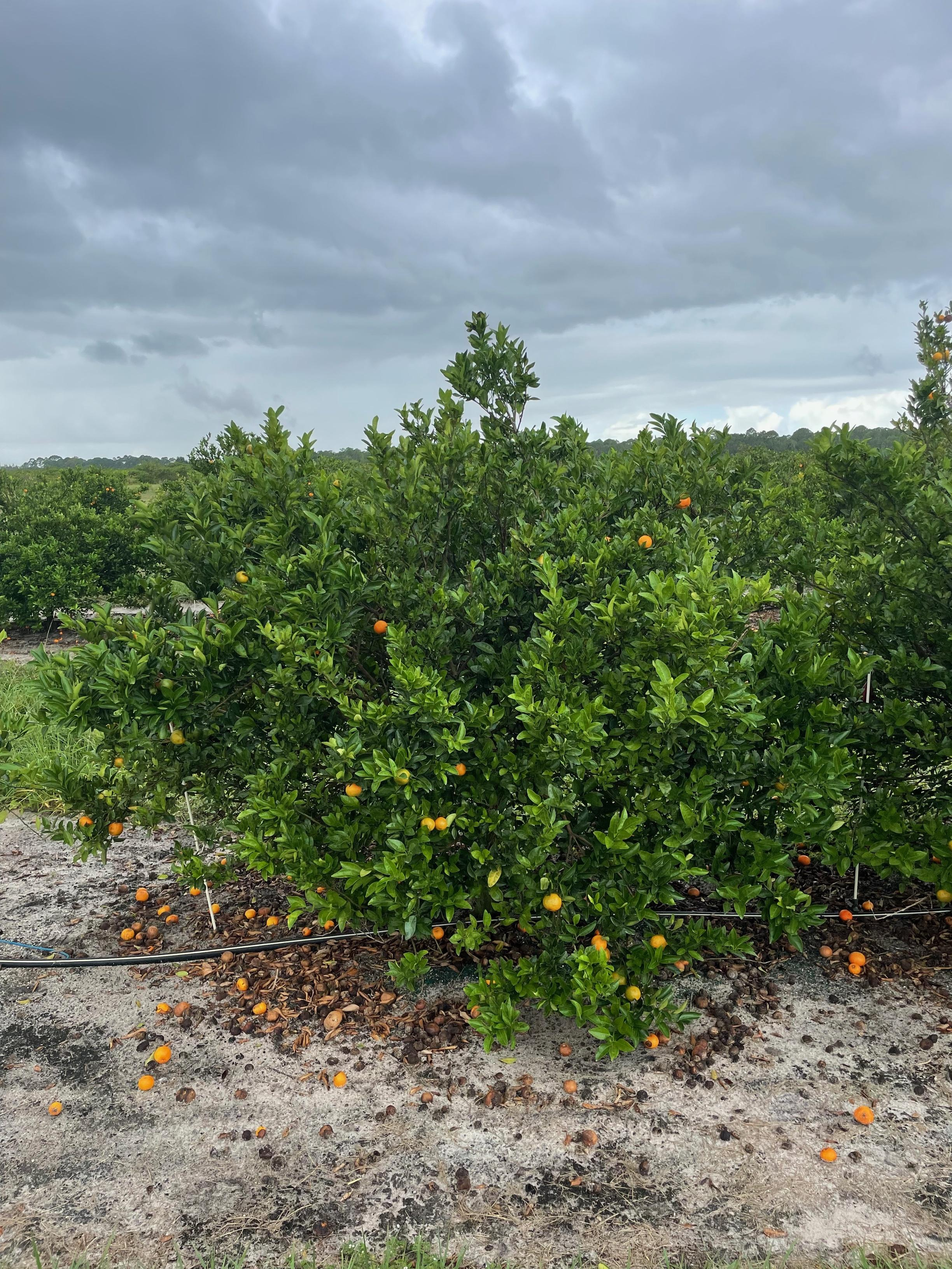fruit_on_ground: (541, 890, 564, 912), (591, 945, 612, 966), (589, 933, 610, 953), (673, 492, 694, 512), (392, 766, 413, 786), (370, 616, 390, 636), (648, 932, 669, 951), (168, 727, 188, 746), (623, 983, 642, 1003), (343, 780, 364, 798), (635, 532, 654, 551), (772, 775, 792, 793), (609, 970, 628, 988), (450, 760, 469, 778), (77, 813, 96, 831), (156, 676, 175, 693), (419, 814, 436, 833), (935, 886, 952, 904), (432, 815, 449, 832), (107, 820, 124, 837), (233, 569, 250, 585), (111, 753, 127, 769), (600, 531, 615, 547), (923, 389, 939, 404), (934, 312, 947, 325), (931, 350, 944, 363), (244, 443, 257, 455), (331, 478, 343, 489), (307, 491, 315, 498)
fruit_on_tree: (852, 1103, 876, 1126), (152, 1043, 173, 1064), (578, 1127, 599, 1147), (323, 1009, 345, 1028), (483, 1089, 503, 1108), (847, 949, 867, 968), (690, 1044, 709, 1062), (47, 1099, 65, 1117), (138, 1073, 156, 1091), (173, 999, 192, 1016), (819, 1145, 838, 1162), (331, 1069, 348, 1087), (557, 1040, 574, 1057), (562, 1077, 579, 1094), (642, 1033, 660, 1049), (233, 975, 250, 991), (429, 925, 445, 941), (847, 961, 864, 976), (252, 1000, 269, 1015), (784, 939, 800, 954), (156, 1000, 172, 1015), (838, 907, 854, 922), (219, 949, 236, 963), (818, 943, 833, 958), (254, 1122, 268, 1138), (424, 1021, 440, 1035), (164, 912, 180, 926), (686, 884, 702, 898), (796, 851, 812, 865), (119, 926, 135, 940), (242, 1021, 257, 1035), (860, 898, 875, 912), (145, 925, 160, 939), (156, 903, 172, 916), (414, 997, 428, 1011), (672, 959, 687, 972), (116, 882, 130, 895), (420, 1090, 434, 1103), (322, 918, 336, 931), (266, 1009, 280, 1022), (266, 914, 280, 927), (130, 921, 145, 933), (135, 890, 150, 902), (214, 850, 228, 862), (931, 853, 944, 865), (672, 1068, 685, 1080), (259, 906, 272, 918), (189, 885, 202, 897), (244, 907, 257, 919), (674, 1045, 686, 1057), (301, 925, 313, 937), (217, 855, 228, 867), (315, 883, 327, 894), (209, 902, 221, 913), (135, 886, 148, 896), (205, 879, 216, 888)
